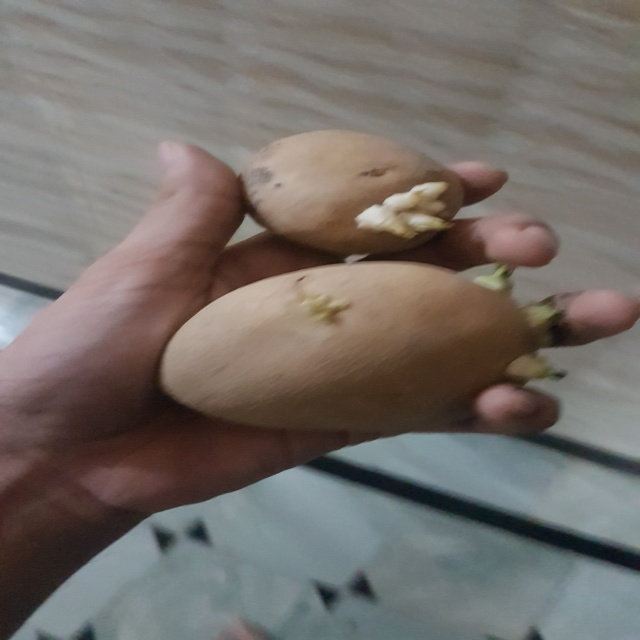potato: (150, 260, 587, 438), (220, 127, 478, 256)
